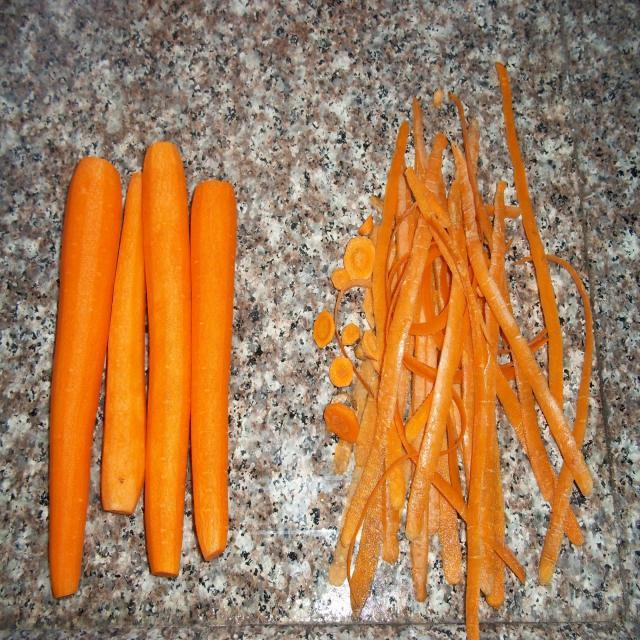carrots: (52, 146, 112, 588), (139, 130, 194, 589), (192, 170, 234, 563), (122, 147, 142, 536)
